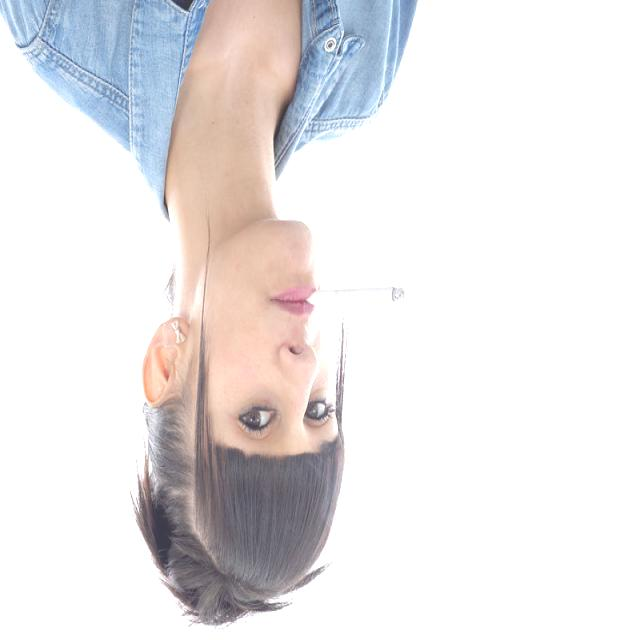smoke: (300, 278, 410, 308)
